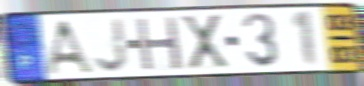1: (291, 9, 317, 69)
3: (241, 11, 280, 69)
A: (42, 18, 96, 76)
H: (134, 14, 185, 73)
J: (92, 16, 130, 74)
X: (179, 12, 231, 72)
